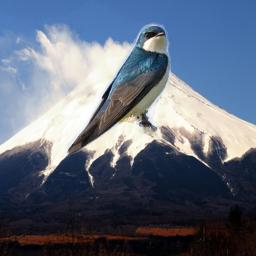Swallow: (62, 20, 175, 157)
